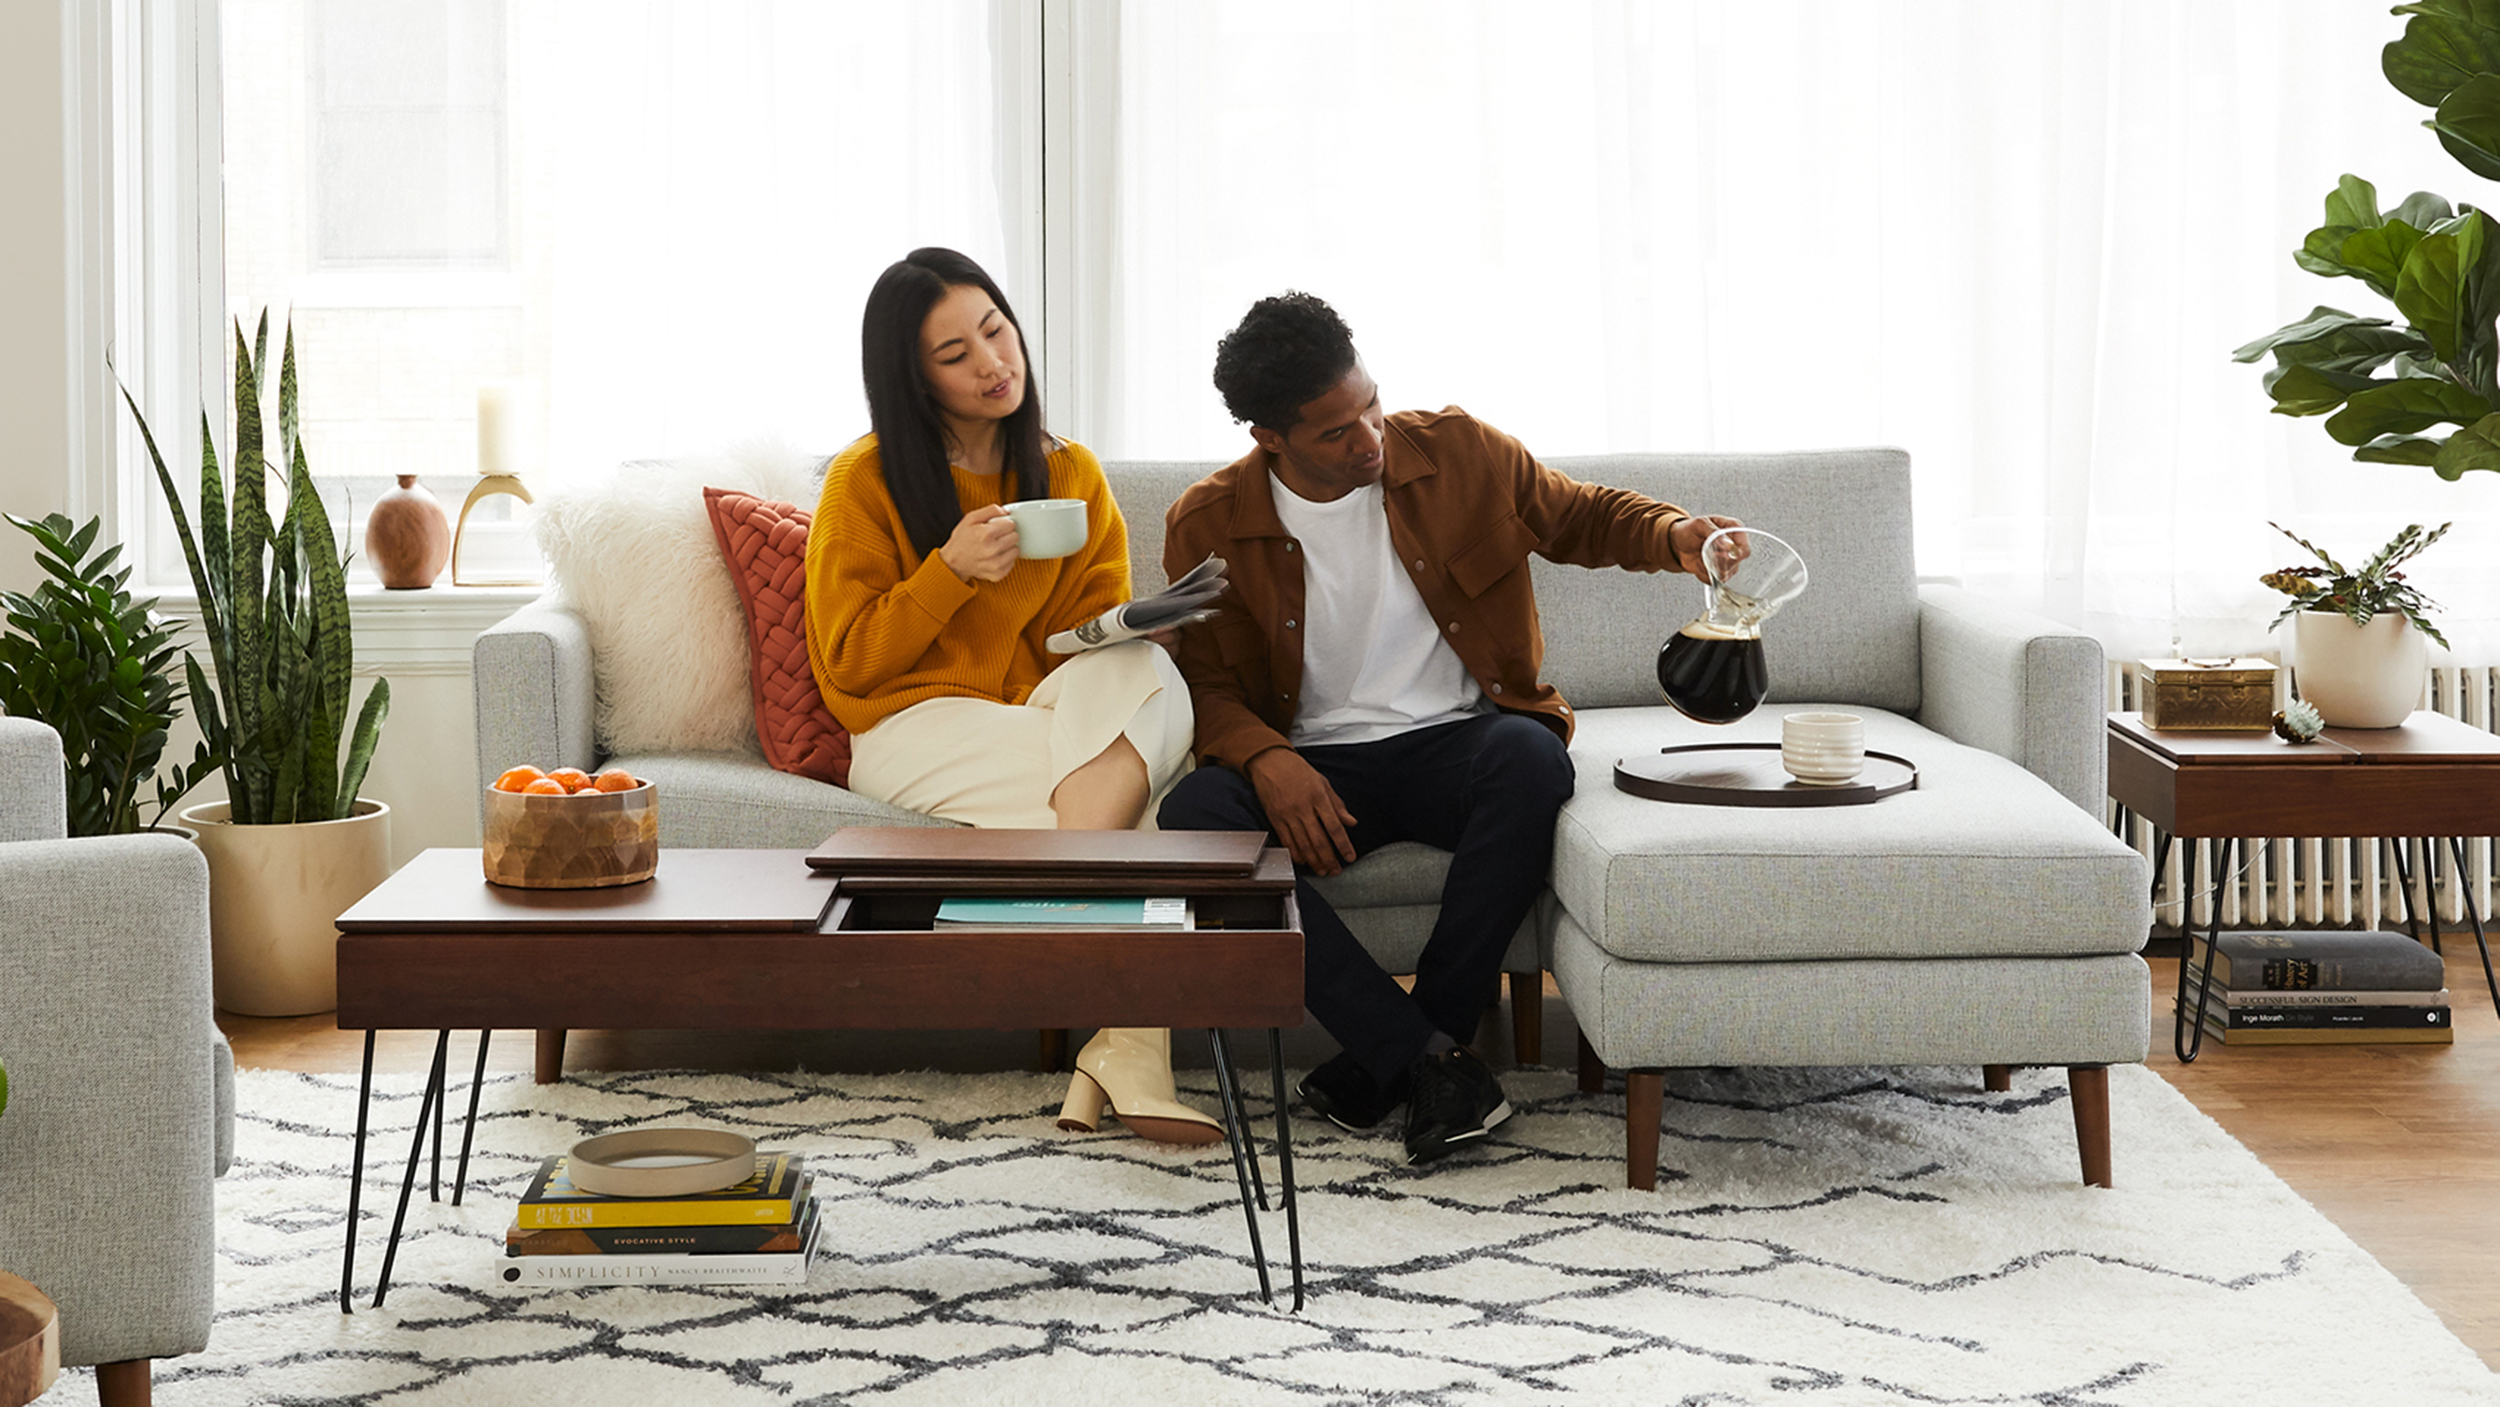buku: (501, 1148, 816, 1295), (2201, 917, 2464, 1057)
gelas: (994, 495, 1099, 560), (1782, 710, 1873, 778)
meja: (331, 844, 1308, 1295)
sova: (458, 447, 2109, 953)
tanaman: (137, 314, 391, 825), (2260, 2, 2500, 502), (2, 507, 161, 828)
